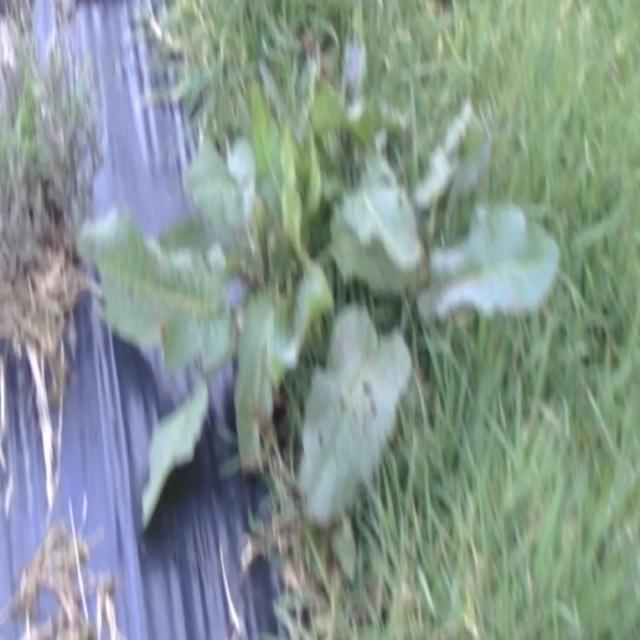organic waste: (89, 14, 567, 523)
